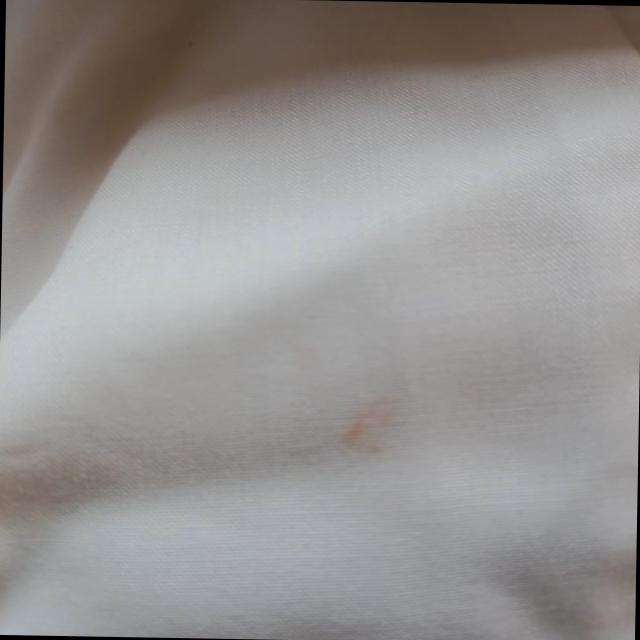stain: (332, 382, 412, 463)
